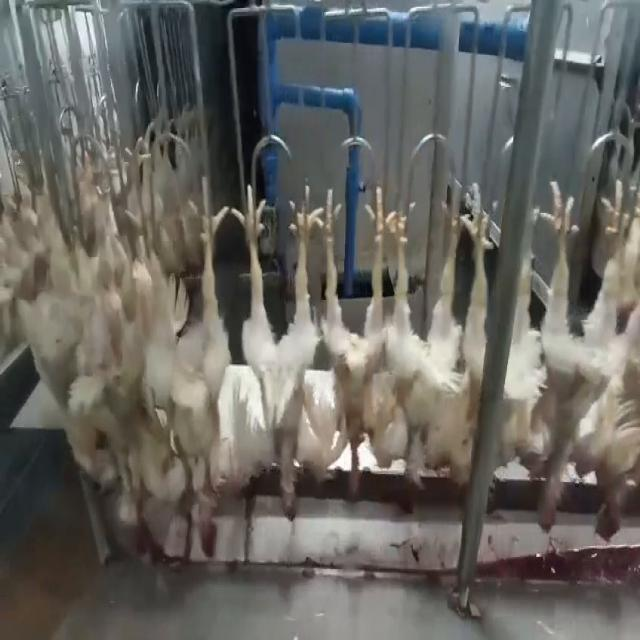chicken: (318, 173, 419, 506), (143, 178, 230, 562), (237, 175, 315, 520), (418, 166, 497, 495), (82, 184, 138, 514), (588, 188, 638, 551), (530, 179, 577, 537)
